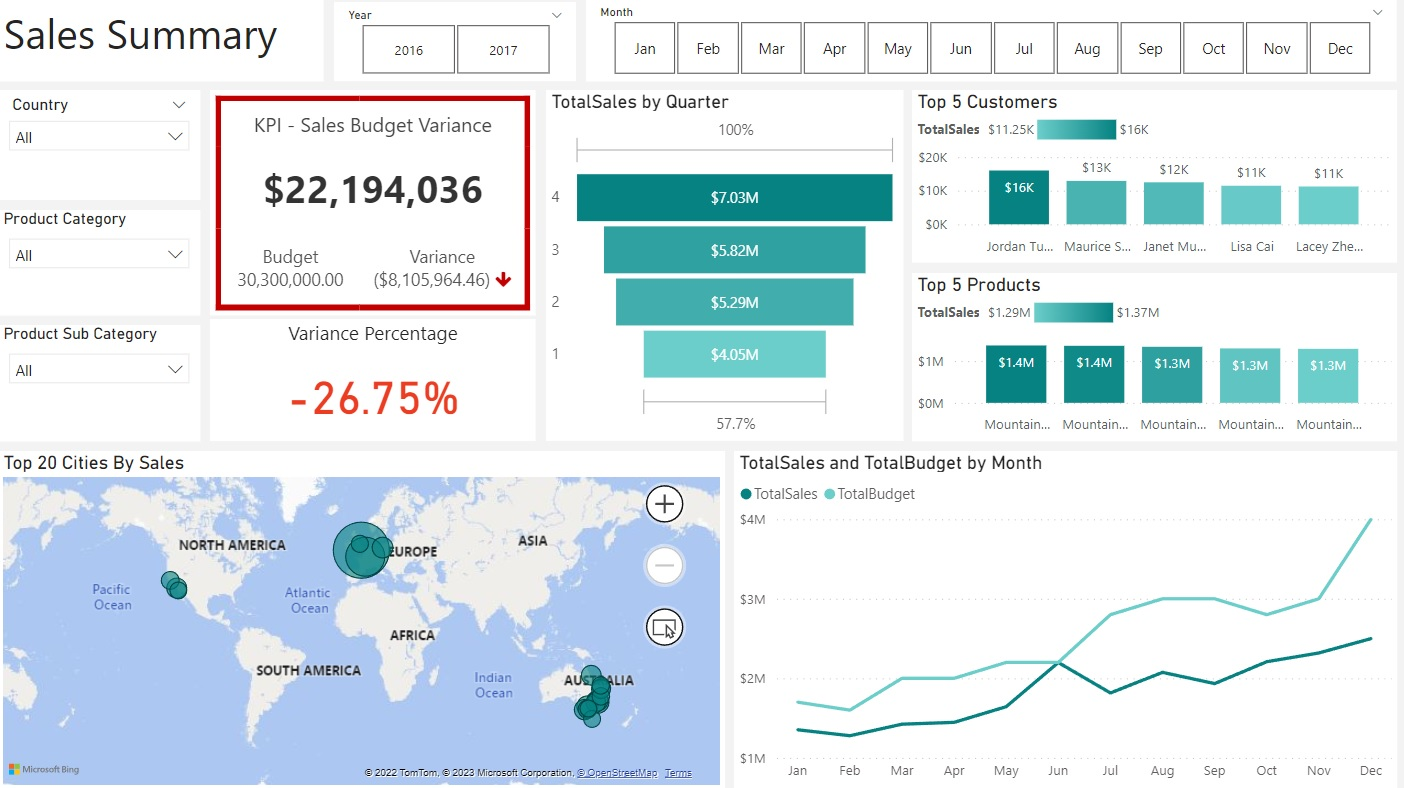

The page's visual inventory and layout, read from the dashboard file:
{"tool":"powerbi","page":{"name":"Executive Summary","canvas":[1280,720],"ordinal":0},"visuals":[{"type":"textbox","box":[0,0,296.4,74.5],"z":0},{"type":"slicer","fields":{"Values":["Dim_Date.Year"]},"box":[305.5,2.7,220,71.8],"z":1000},{"type":"slicer","title":"Product Category","fields":{"Values":["Dim_Product.Category"]},"box":[0,191.6,183.6,95.8],"z":2000},{"type":"slicer","title":"Product Sub Category","fields":{"Values":["Dim_Product.Sub Category"]},"box":[0,296.4,183.6,105.7],"z":3000},{"type":"slicer","fields":{"Values":["Dim_Customer.Country"]},"box":[0,82.7,183.6,100],"z":4000},{"type":"BBED0A4D4D8D44CE93CF2DAFADEE466C","fields":{"actual":["Fact_Internet_Sales.TotalSales"],"target1":["Fact_Budget.TotalBudget"],"target2":["Fact_Budget.TotalVariancce"]},"box":[192.7,82.7,296.4,204.5],"z":5000},{"type":"card","title":"Variance Percentage","fields":{"Values":["Fact_Budget.VariancePct"]},"box":[192.5,291,296.4,111],"z":6000},{"type":"slicer","fields":{"Values":["Dim_Date.Month"]},"box":[534.5,0,737.3,74.5],"z":7000},{"type":"funnel","fields":{"Category":["Dim_Date.Quarter"],"Y":["Fact_Internet_Sales.TotalSales"]},"box":[498.2,82.7,324.5,319.1],"z":8000},{"type":"columnChart","title":"Top 5 Customers","fields":{"Category":["Dim_Customer.Full Name"],"Y":["Fact_Internet_Sales.TotalSales"]},"box":[830.9,82.7,440.9,157.3],"z":9000},{"type":"columnChart","title":"Top 5 Products","fields":{"Y":["Fact_Internet_Sales.TotalSales"],"Category":["Dim_Product.EnglishProductName"]},"box":[831,249,440.6,153.1],"z":10000},{"type":"map","title":"Top 20 Cities By Sales","fields":{"Category":["Dim_Customer.City"],"Size":["Fact_Internet_Sales.TotalSales"]},"box":[0,411,660.9,309],"z":11000},{"type":"lineChart","fields":{"Category":["Dim_Date.Month"],"Y":["Fact_Internet_Sales.TotalSales","Fact_Budget.TotalBudget"]},"box":[669,411,602.7,309],"z":12000}]}

Visuals, with their boxes in screenshot pixels (x1, y1, x2, y2), scaled from the page's 1280x720 canvas onto the 1404x788 screenshot:
textbox: pyautogui.locateOnScreen(0, 0, 325, 82)
slicer - Dim_Date.Year: pyautogui.locateOnScreen(335, 3, 576, 82)
"Product Category" slicer: pyautogui.locateOnScreen(0, 210, 201, 315)
"Product Sub Category" slicer: pyautogui.locateOnScreen(0, 324, 201, 440)
slicer - Dim_Customer.Country: pyautogui.locateOnScreen(0, 91, 201, 200)
BBED0A4D4D8D44CE93CF2DAFADEE466C - Fact_Internet_Sales.TotalSales x Fact_Budget.TotalBudget: pyautogui.locateOnScreen(211, 91, 536, 314)
"Variance Percentage" card: pyautogui.locateOnScreen(211, 318, 536, 440)
slicer - Dim_Date.Month: pyautogui.locateOnScreen(586, 0, 1395, 82)
funnel - Dim_Date.Quarter x Fact_Internet_Sales.TotalSales: pyautogui.locateOnScreen(546, 91, 902, 440)
"Top 5 Customers" columnChart: pyautogui.locateOnScreen(911, 91, 1395, 263)
"Top 5 Products" columnChart: pyautogui.locateOnScreen(912, 273, 1395, 440)
"Top 20 Cities By Sales" map: pyautogui.locateOnScreen(0, 450, 725, 787)
lineChart - Dim_Date.Month x Fact_Internet_Sales.TotalSales: pyautogui.locateOnScreen(734, 450, 1395, 787)
